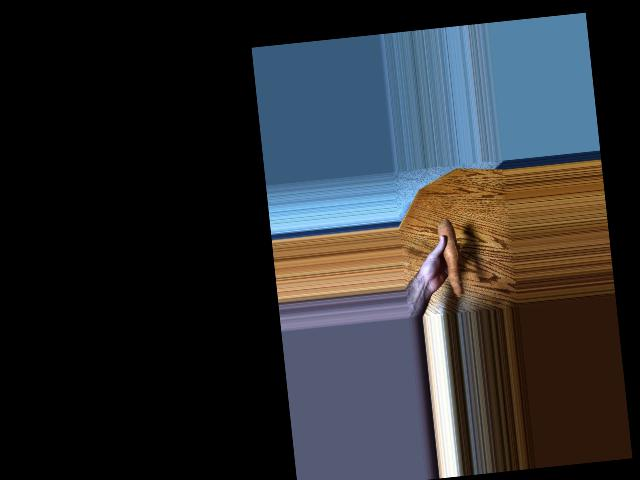sweet_potato: (439, 219, 466, 301)
